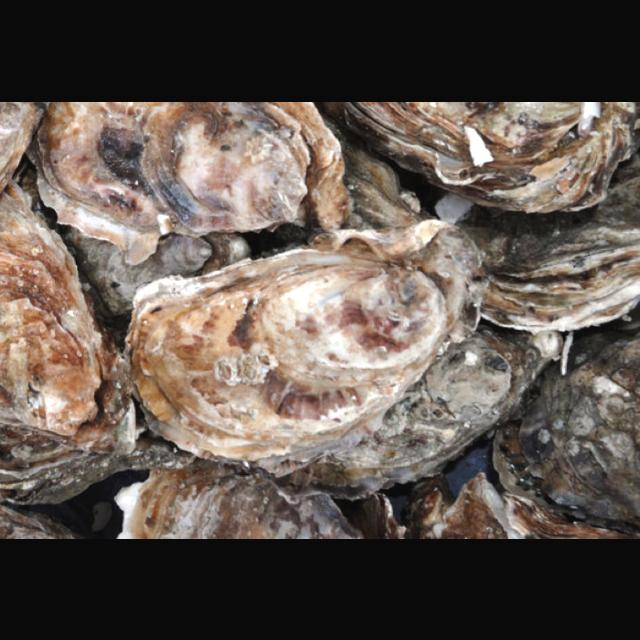Oyster-Closed: (123, 219, 485, 474), (24, 101, 353, 265), (276, 324, 562, 499), (321, 101, 640, 214), (457, 150, 640, 332), (491, 331, 640, 536), (0, 183, 104, 438), (140, 101, 310, 232), (115, 458, 367, 539), (0, 315, 135, 453), (67, 226, 253, 315), (0, 421, 196, 505), (322, 115, 442, 230), (108, 235, 212, 303), (429, 474, 522, 539), (0, 101, 47, 191), (0, 504, 84, 539), (364, 494, 393, 539), (92, 500, 116, 534)
